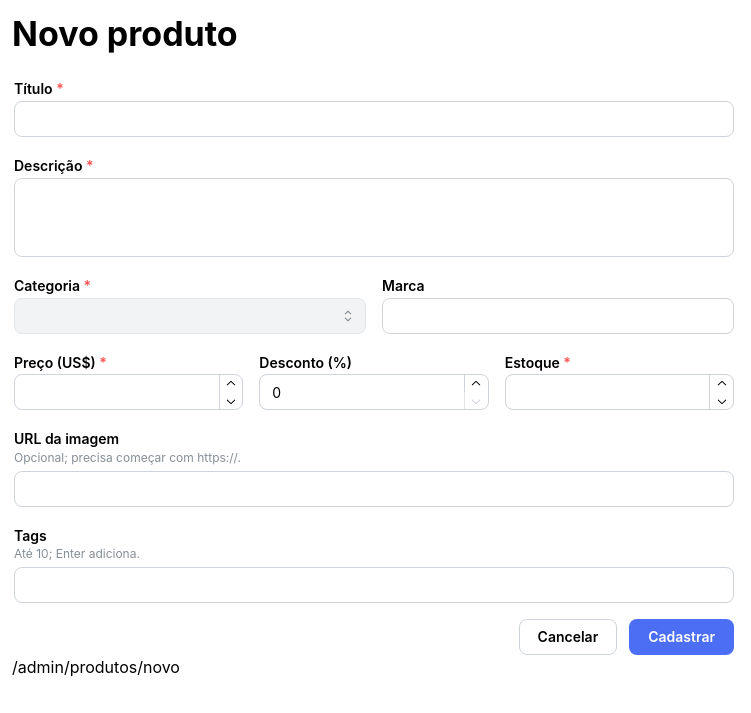
ProductFormPage: cadastro › recusa a imagem fora de https assim que sai do campo
In the field labelled "URL da imagem": (374, 489) [14, 471, 734, 507], type "http://cdn.dummyjson.com/x.webp"
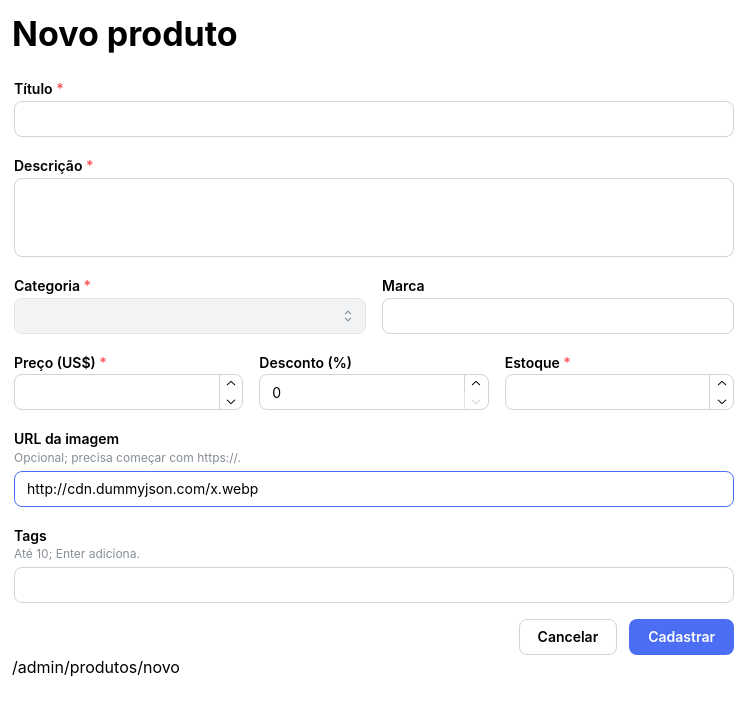
Press Tab
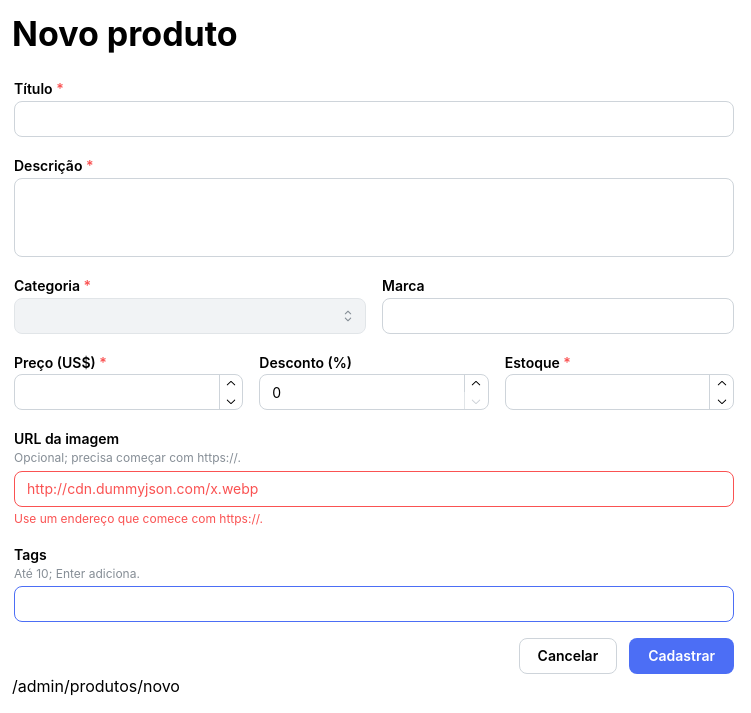
Now the text "Use um endereço que comece com https://." is shown, box [14, 511, 263, 526]
